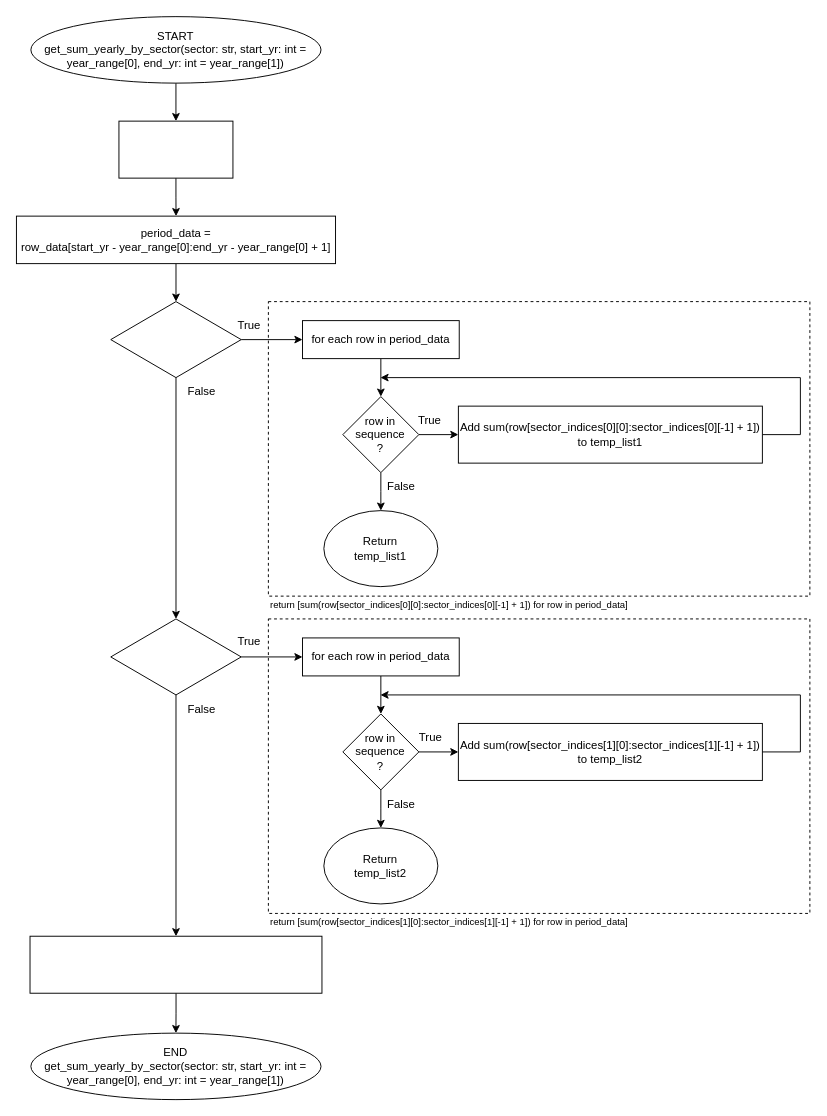
Some shapes in this 827 by 1116 pixel diagram are drawn without their labels. The box of each missing label's shape, as (x1, y1, x2, y2) in pixels:
Initialise period_data: (118, 120, 233, 178)
raise Exception("Invalid sector passed into function call!"): (29, 935, 322, 993)
sector == "private" ?: (110, 301, 241, 378)
sector == "public" ?: (110, 618, 241, 695)
